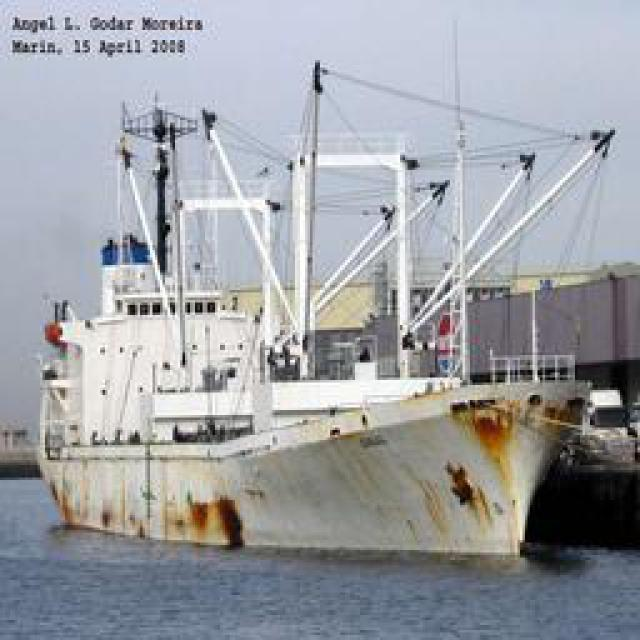Ship: (39, 42, 622, 560)
